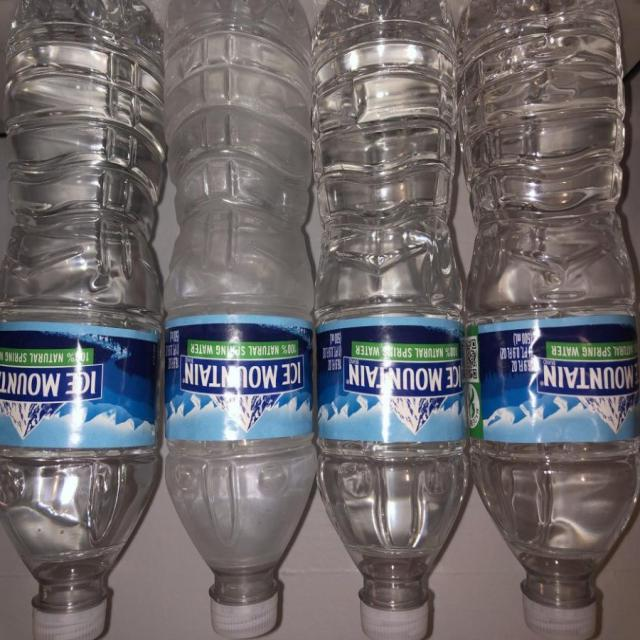cap: (198, 582, 284, 639), (520, 591, 606, 640), (28, 595, 114, 640)
label: (472, 321, 638, 446), (0, 324, 152, 451), (168, 318, 312, 435)
not-crumbled: (462, 3, 640, 640), (154, 1, 322, 639), (0, 0, 161, 640)
